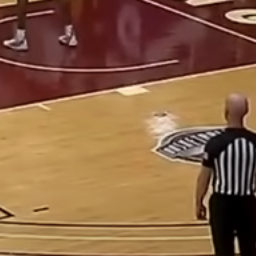block: (115, 85, 149, 96)
